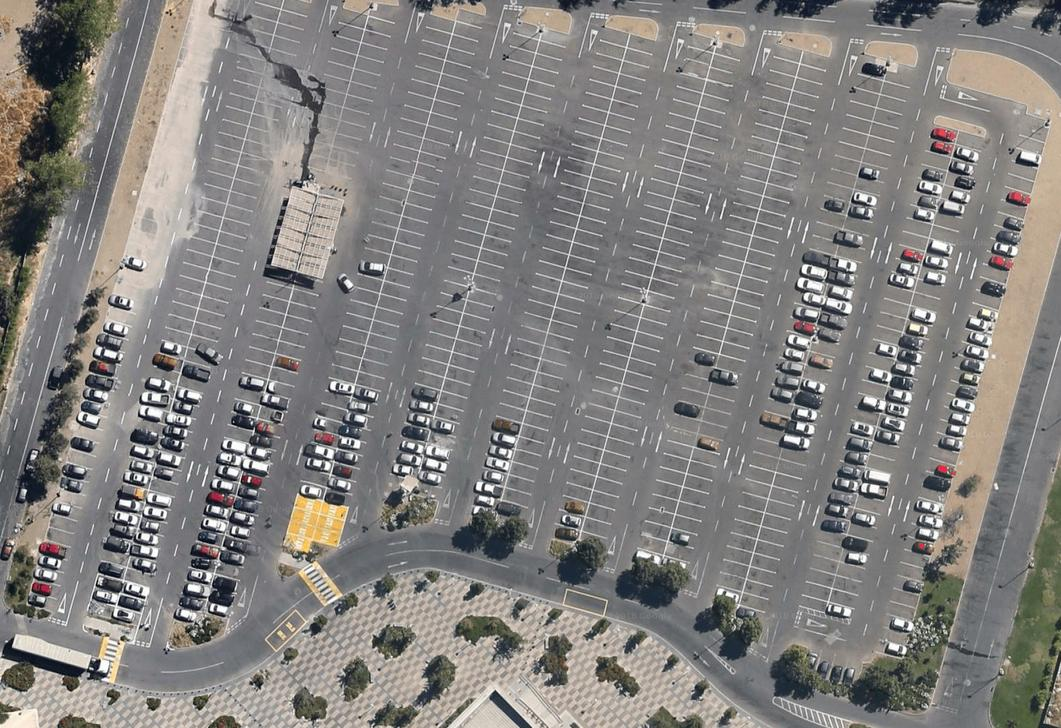parkingspot: (111, 0, 313, 629), (24, 0, 230, 615), (84, 0, 285, 623), (735, 59, 918, 627), (711, 51, 892, 607), (873, 120, 1051, 660), (632, 40, 806, 567), (549, 31, 720, 547), (663, 49, 833, 565), (580, 39, 747, 541), (322, 7, 488, 509), (467, 24, 633, 522), (797, 121, 961, 614), (496, 33, 660, 523), (825, 129, 988, 621), (295, 11, 457, 504), (412, 26, 571, 504), (387, 17, 545, 485), (172, 265, 299, 623), (203, 272, 327, 622), (319, 2, 401, 195), (294, 5, 370, 189), (803, 645, 865, 689)
